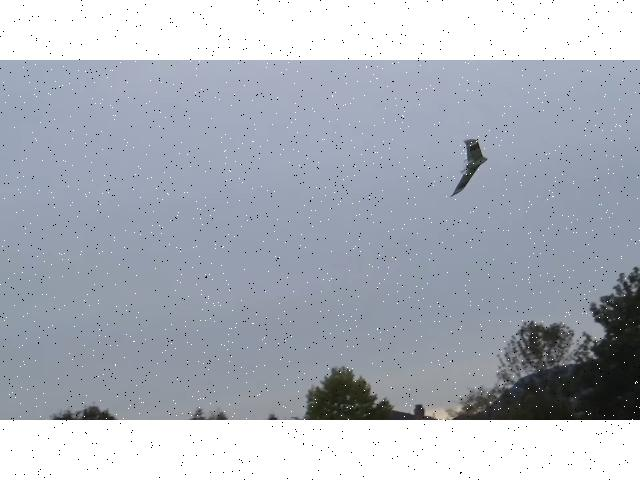Anti-Drone: (452, 140, 486, 196)
